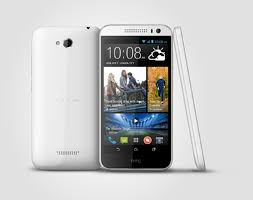htc: (99, 21, 174, 173), (29, 24, 101, 171)
